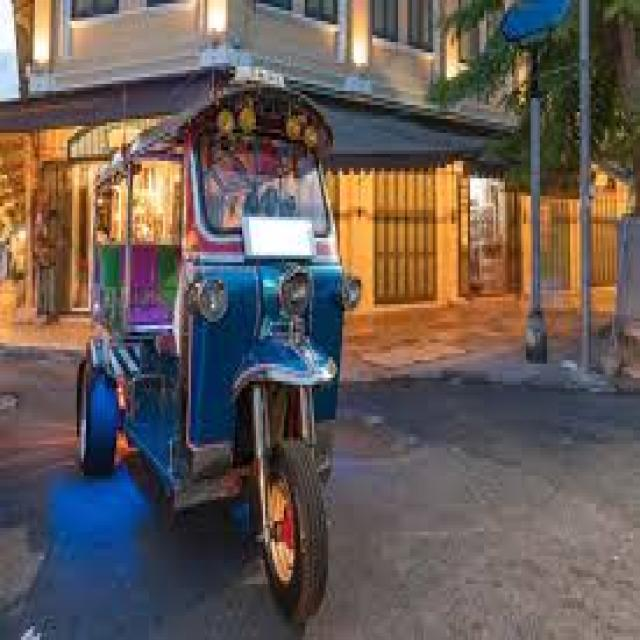tuktuk: (49, 52, 379, 640)
